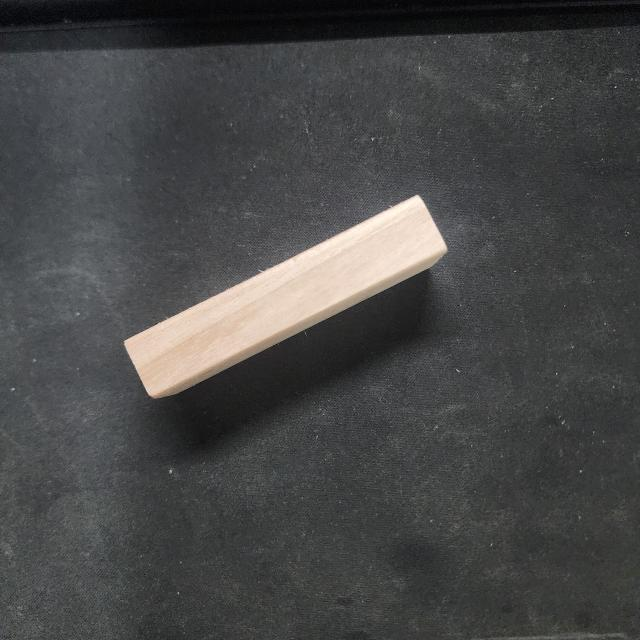wood: (123, 193, 451, 405)
